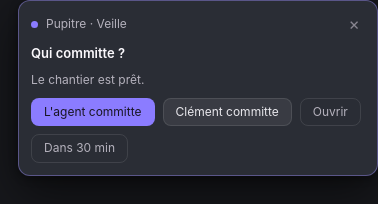
Test: un clic envoie la réponse à l’autre conversation puis ferme la notification
This screenshot has width=378, height=204.
Click the button "Clément committe".
click(227, 112)  # box [162,98,292,126]
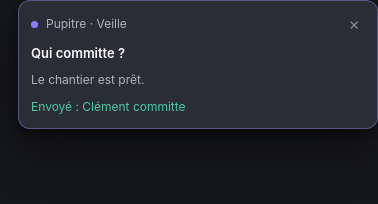
Now the text "Envoyé : Clément committe" is shown, box [31,99,186,114]
